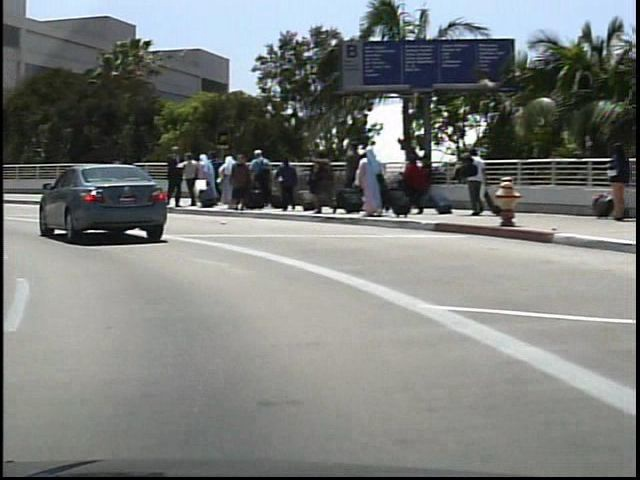person: (592, 139, 627, 223), (457, 143, 484, 221), (104, 150, 132, 212), (160, 143, 184, 212), (176, 150, 196, 210), (118, 154, 137, 196)
